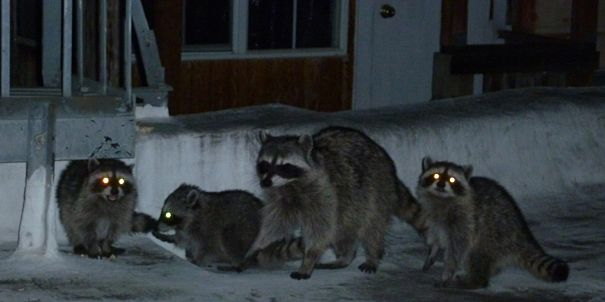raccoon: (237, 117, 423, 282), (410, 152, 577, 297), (152, 169, 259, 280), (53, 145, 141, 264)
